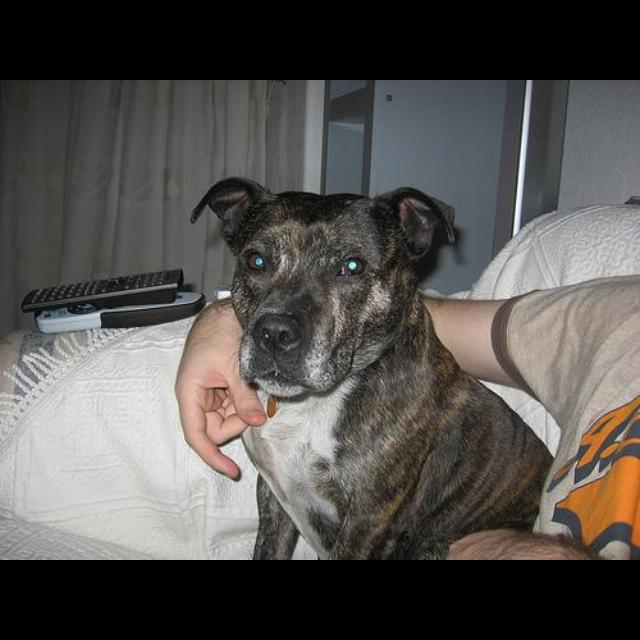staffford: (190, 176, 557, 560)
